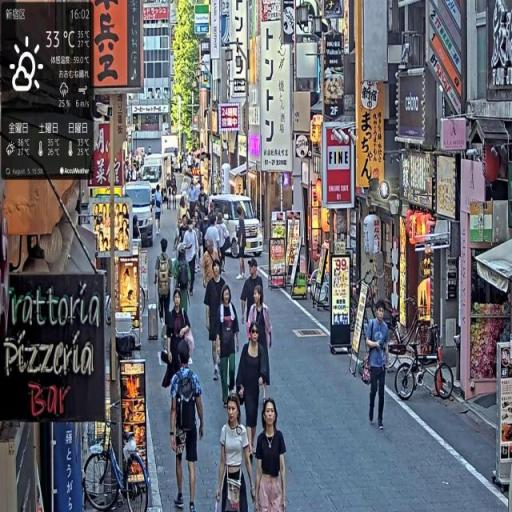person: (168, 338, 208, 512), (236, 323, 271, 468), (216, 392, 257, 512), (254, 396, 289, 512), (365, 303, 391, 431), (216, 287, 242, 410), (205, 258, 228, 383), (247, 286, 273, 393), (156, 236, 175, 346), (241, 260, 265, 330), (176, 246, 195, 326), (236, 207, 249, 281), (154, 186, 165, 237)
